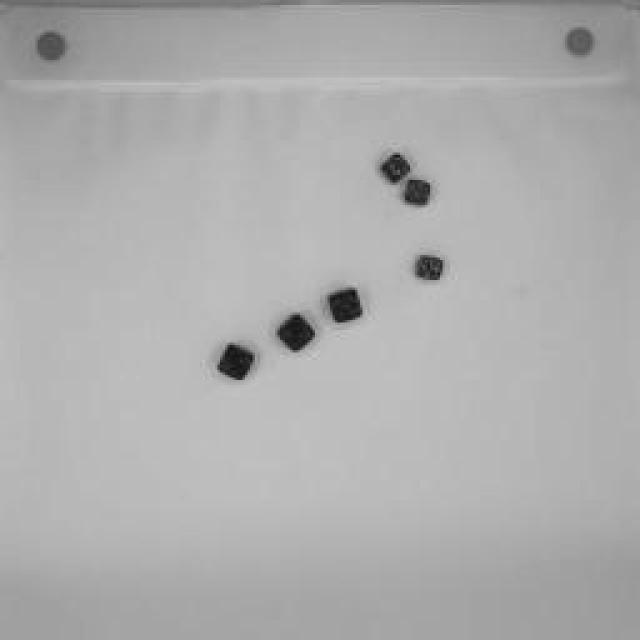dice_1: (375, 148, 415, 188)
dice_2: (212, 337, 262, 385), (274, 312, 321, 356), (411, 252, 449, 288)
dice_5: (324, 282, 366, 328)
dice_6: (402, 175, 438, 215)
